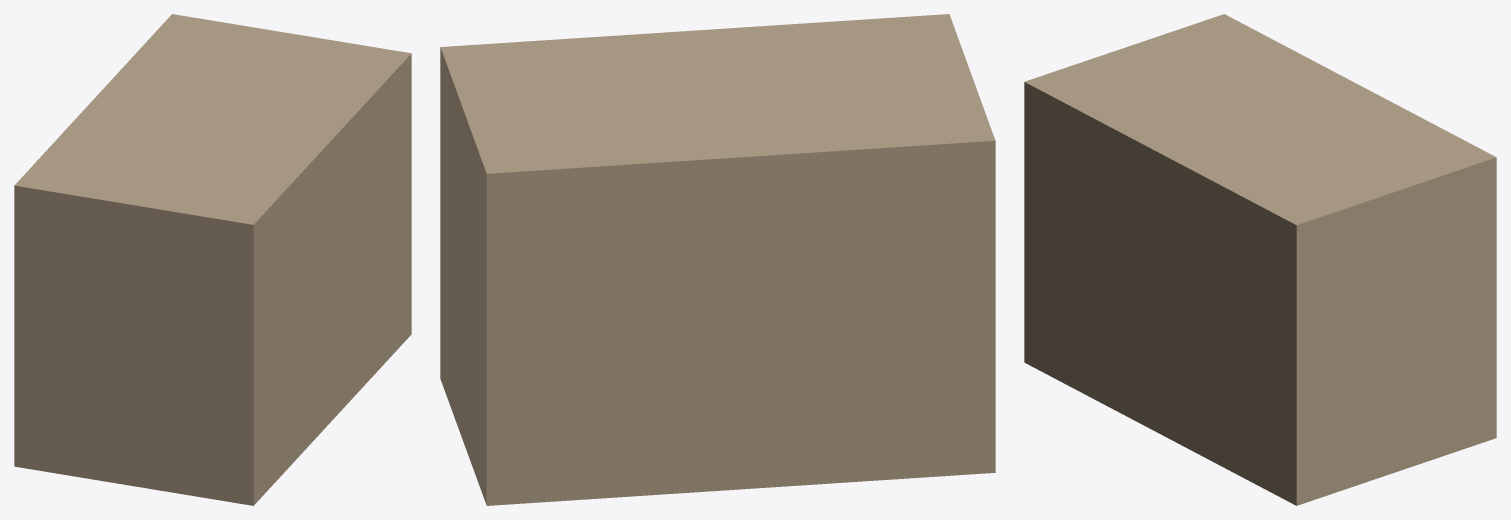
The model's file is bld_106796573.dae.
The picture shows the model from 3 angles, left to right: view 1: azimuth 30°, elevation 25°; view 2: azimuth 150°, elevation 25°; view 3: azimuth 270°, elevation 25°; orthographic projection. The views are drawn at different scales.
Parts seen in each view (by area): view 1: bld_106796573; view 2: bld_106796573; view 3: bld_106796573.
Boxes of the visible parts, <box> form: bld_106796573: <box>14,14,411,505</box>; bld_106796573: <box>440,14,995,505</box>; bld_106796573: <box>1024,14,1496,505</box>.
Size of the model in its own units: 12.91 by 12.2 by 8.
